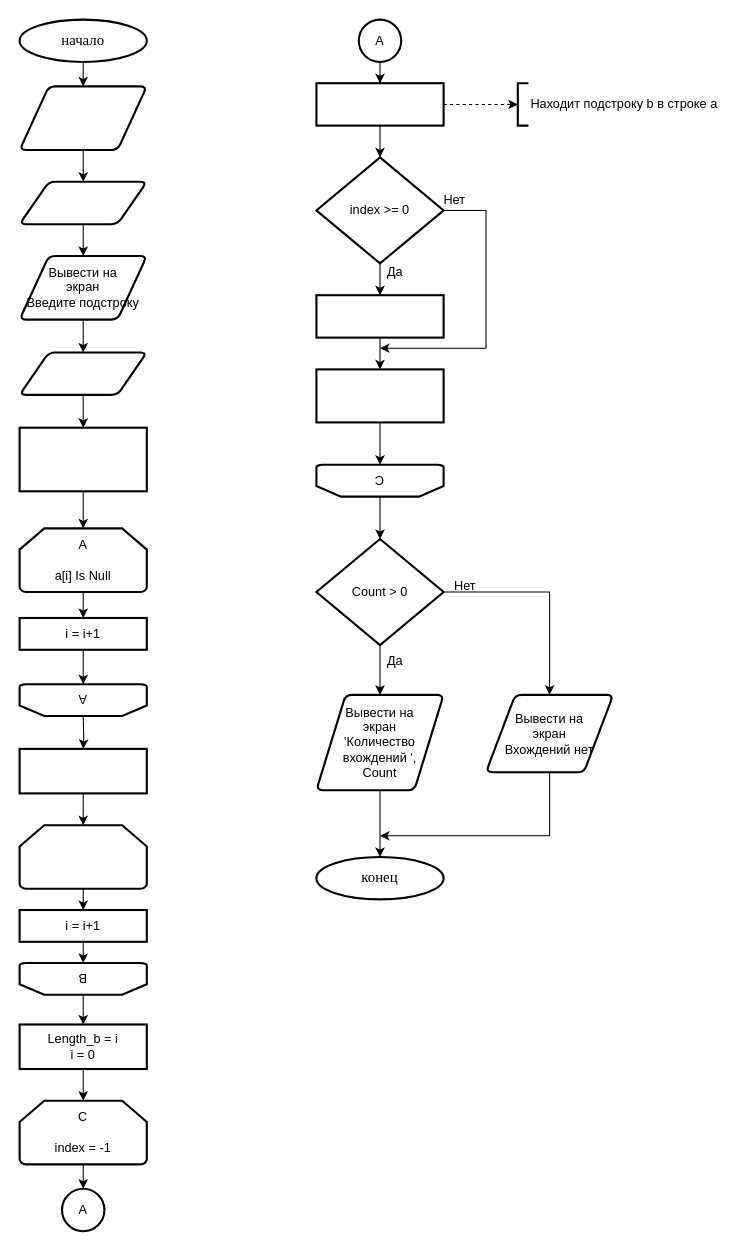
The diagram is 747 pixels wide and 1250 high, and some of its shapes have lost their labels. Here are the shapes that lost their labels. From the top down, the centre of each, then its label:
At point (82, 118): "Вывести на экран Введите строку".
At point (379, 104): "index = a.find(b)".
At point (82, 202): "Ввести a".
At point (379, 316): "Count = Count+1".
At point (82, 373): "Ввести b".
At point (379, 395): "Убрать из строки a найденную подстроку b".
At point (82, 459): "index = 0 i = 0 Count = 0".
At point (82, 770): "Length_a = i i = 0".
At point (82, 856): "B b[i] Is Null".
